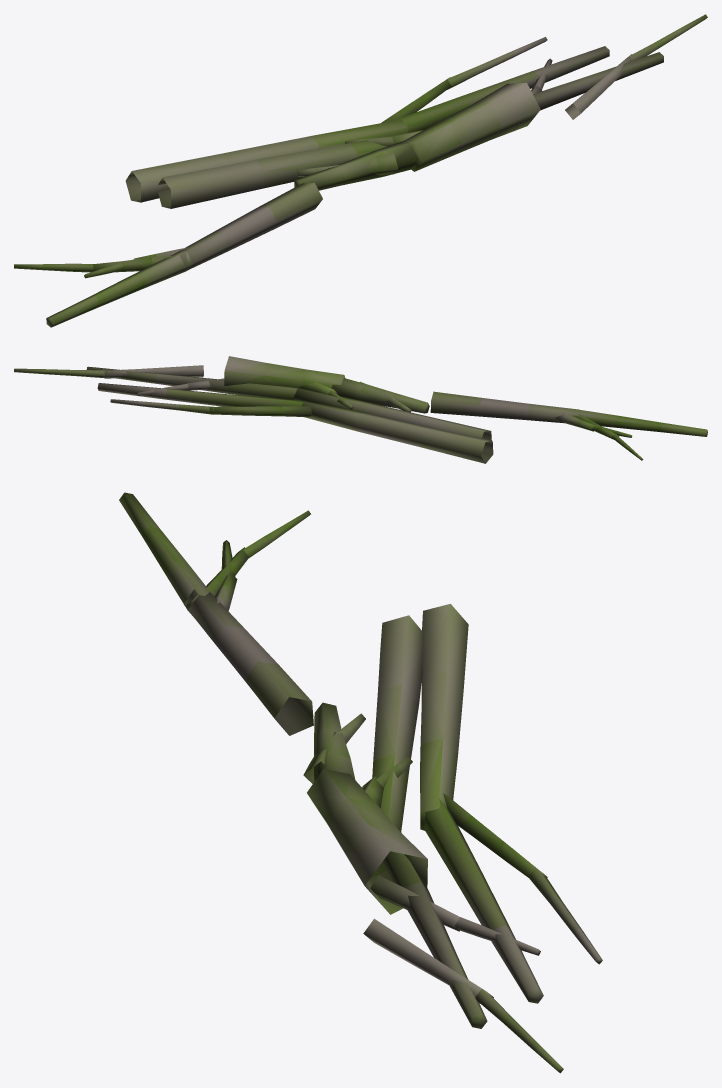
Rendered from branches_b.glb.
The picture shows the model from 3 angles, top to bottom: view 1: azimuth 30°, elevation 25°; view 2: azimuth 150°, elevation 25°; view 3: azimuth 270°, elevation 25°; orthographic projection. The views are drawn at different scales.
Visible parts, largest first — view 1: branches_b; view 2: branches_b; view 3: branches_b.
Part boxes in pixels (<box>): branches_b: <box>14,14,707,327</box>; branches_b: <box>14,356,707,463</box>; branches_b: <box>119,492,602,1073</box>.
Size of the model in its own units: 2.05 by 0.1054 by 0.7318.
